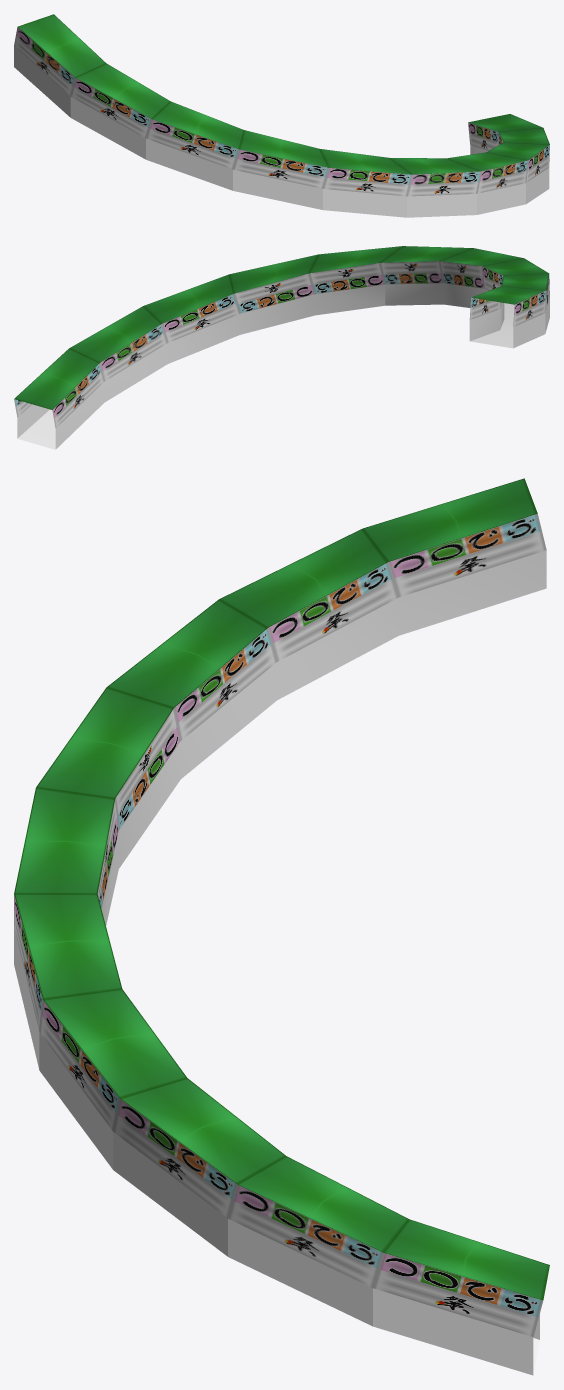
File: CourseWinter_Wall_L_11.fbx
3 views of the same model, one above another, from view 1: azimuth 30°, elevation 25°; view 2: azimuth 150°, elevation 25°; view 3: azimuth 270°, elevation 25° (orthographic). The views are drawn at different scales.
Parts seen in each view (by area): view 1: polySurface402; view 2: polySurface402; view 3: polySurface402.
Part boxes in pixels (bbox=[...]): polySurface402: bbox=[14, 14, 549, 217]; polySurface402: bbox=[14, 246, 549, 449]; polySurface402: bbox=[14, 478, 549, 1375].
Size of the model in its own units: 24.59 by 11.98 by 12.67.
Materials: 1 (1 with a texture image).
